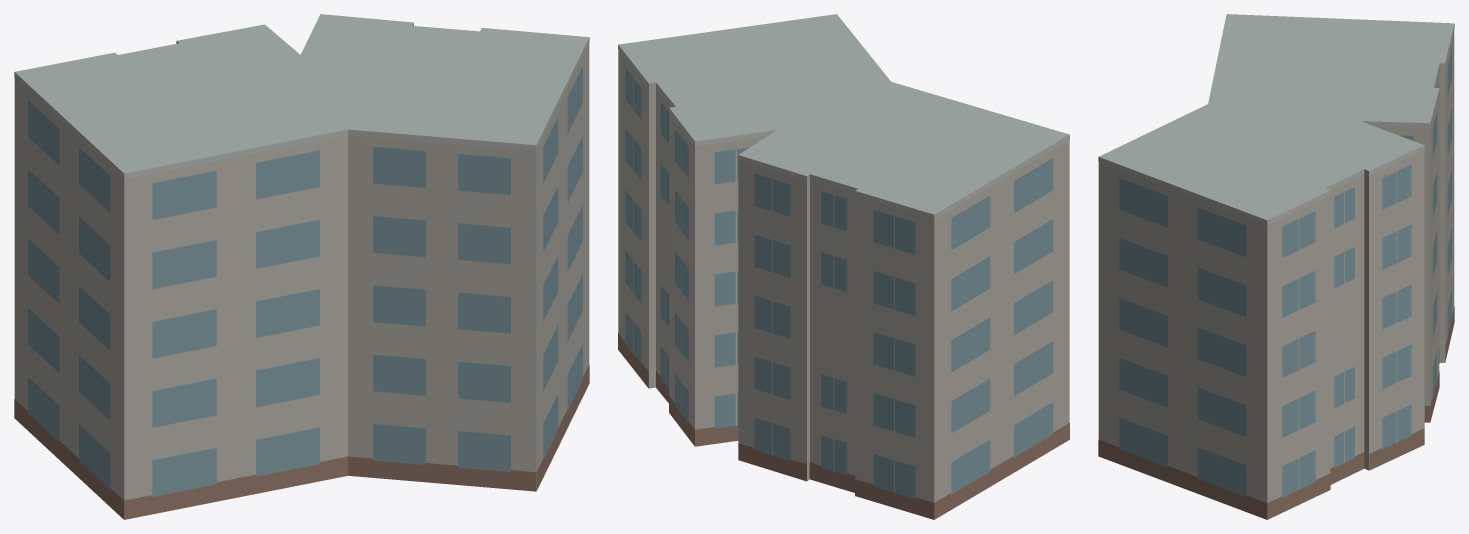
Rendered from survey-upis-32869001.glb.
The picture shows the model from 3 angles, left to right: view 1: azimuth 30°, elevation 25°; view 2: azimuth 150°, elevation 25°; view 3: azimuth 270°, elevation 25°; orthographic projection. The views are drawn at different scales.
Visible parts, largest first — view 1: survey-upis-32869001.tmp; view 2: survey-upis-32869001.tmp; view 3: survey-upis-32869001.tmp.
Boxes of the visible parts, left/top/right/bottom form: survey-upis-32869001.tmp: left=14, top=14, right=589, bottom=519; survey-upis-32869001.tmp: left=618, top=14, right=1069, bottom=519; survey-upis-32869001.tmp: left=1098, top=14, right=1454, bottom=519.
Bounding box in the file's own units: 21.28 × 14.4 × 15.51.
